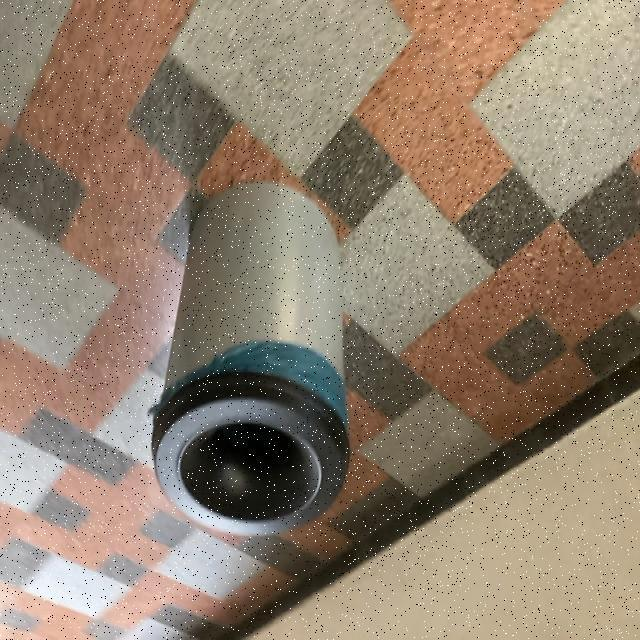garbage container: (136, 150, 371, 556)
